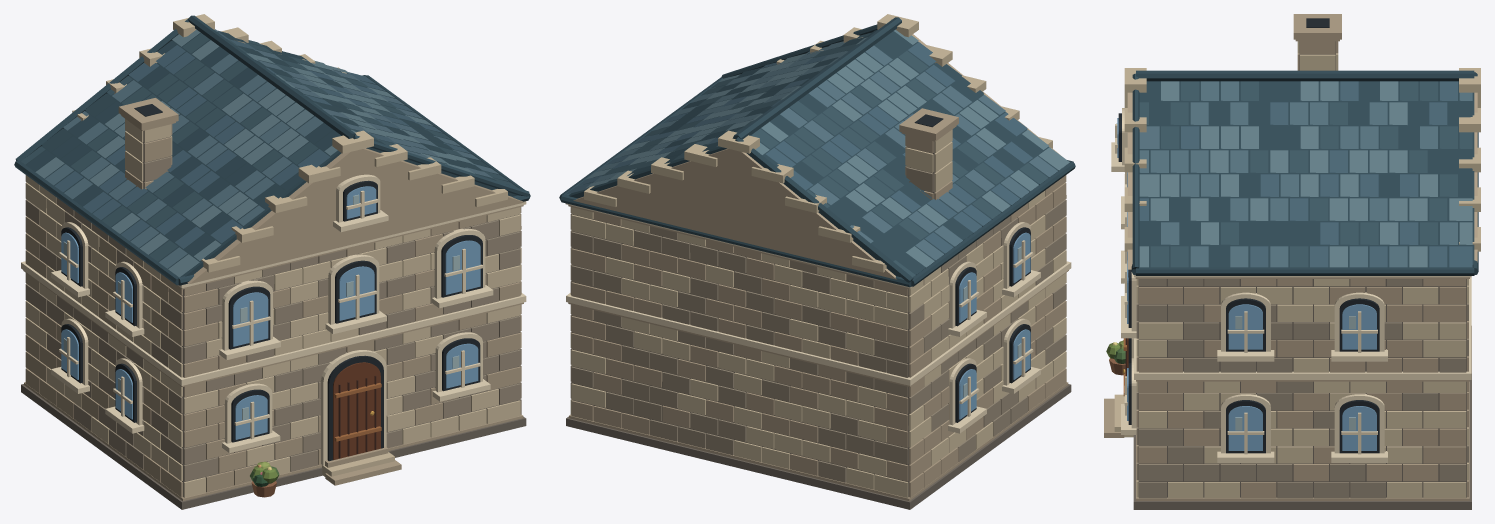
Rendered from moradia-nivel-5.glb.
3 renders of one model, left to right at view 1: azimuth 30°, elevation 25°; view 2: azimuth 150°, elevation 25°; view 3: azimuth 270°, elevation 25°, orthographic. The views are drawn at different scales.
Visible parts, largest first — view 1: Moradia 05 #b4a38a, Moradia 05 #cebea0, Moradia 05 #9b8f7c, Moradia 05 #344d58, Moradia 05 #e6d7ba, Moradia 05 #55717e, Moradia 05 #637f89, Moradia 05 #567185, Moradia 05 #3f5a65, Moradia 05 #486574, Moradia 05 #252c32, Moradia 05 #746c62 (+3 smaller); view 2: Moradia 05 #b4a38a, Moradia 05 #cebea0, Moradia 05 #9b8f7c, Moradia 05 #344d58, Moradia 05 #637f89, Moradia 05 #e6d7ba, Moradia 05 #3f5a65, Moradia 05 #55717e, Moradia 05 #746c62, Moradia 05 #486574, Moradia 05 #567185, Moradia 05 #252c32; view 3: Moradia 05 #344d58, Moradia 05 #b4a38a, Moradia 05 #cebea0, Moradia 05 #9b8f7c, Moradia 05 #637f89, Moradia 05 #e6d7ba, Moradia 05 #55717e, Moradia 05 #3f5a65, Moradia 05 #746c62, Moradia 05 #486574, Moradia 05 #567185, Moradia 05 #252c32.
Part boxes in pixels (x1=…): Moradia 05 #b4a38a: x1=23, y1=98, x2=523, y2=500; Moradia 05 #cebea0: x1=25, y1=14, x2=521, y2=497; Moradia 05 #9b8f7c: x1=25, y1=156, x2=521, y2=481; Moradia 05 #344d58: x1=14, y1=15, x2=530, y2=285; Moradia 05 #e6d7ba: x1=21, y1=174, x2=526, y2=465; Moradia 05 #55717e: x1=45, y1=29, x2=498, y2=268; Moradia 05 #637f89: x1=35, y1=29, x2=474, y2=277; Moradia 05 #567185: x1=61, y1=186, x2=480, y2=439; Moradia 05 #3f5a65: x1=21, y1=33, x2=517, y2=261; Moradia 05 #486574: x1=54, y1=33, x2=470, y2=248; Moradia 05 #252c32: x1=61, y1=104, x2=482, y2=461; Moradia 05 #746c62: x1=21, y1=131, x2=526, y2=509; Moradia 05 #b4a38a: x1=568, y1=34, x2=1068, y2=500; Moradia 05 #cebea0: x1=570, y1=14, x2=1066, y2=497; Moradia 05 #9b8f7c: x1=570, y1=167, x2=1066, y2=482; Moradia 05 #344d58: x1=559, y1=17, x2=1075, y2=287; Moradia 05 #637f89: x1=586, y1=29, x2=1069, y2=267; Moradia 05 #e6d7ba: x1=565, y1=203, x2=1071, y2=433; Moradia 05 #3f5a65: x1=602, y1=32, x2=1048, y2=277; Moradia 05 #55717e: x1=593, y1=41, x2=1057, y2=260; Moradia 05 #746c62: x1=566, y1=141, x2=1071, y2=509; Moradia 05 #486574: x1=565, y1=42, x2=1032, y2=253; Moradia 05 #567185: x1=959, y1=232, x2=1030, y2=419; Moradia 05 #252c32: x1=914, y1=114, x2=1030, y2=422; Moradia 05 #344d58: x1=1131, y1=70, x2=1478, y2=275; Moradia 05 #b4a38a: x1=1104, y1=14, x2=1477, y2=500; Moradia 05 #cebea0: x1=1114, y1=41, x2=1480, y2=498; Moradia 05 #9b8f7c: x1=1136, y1=279, x2=1468, y2=498; Moradia 05 #637f89: x1=1139, y1=81, x2=1472, y2=267; Moradia 05 #e6d7ba: x1=1111, y1=108, x2=1471, y2=462; Moradia 05 #55717e: x1=1139, y1=81, x2=1472, y2=267; Moradia 05 #3f5a65: x1=1139, y1=81, x2=1472, y2=267; Moradia 05 #746c62: x1=1133, y1=41, x2=1471, y2=509; Moradia 05 #486574: x1=1139, y1=81, x2=1472, y2=267; Moradia 05 #567185: x1=1117, y1=118, x2=1376, y2=450; Moradia 05 #252c32: x1=1118, y1=18, x2=1379, y2=453.
Bounding box in the file's own units: 7.6 × 6.67 × 6.5.
